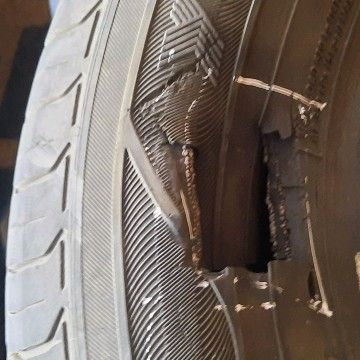bead_damage: (130, 23, 324, 307)
